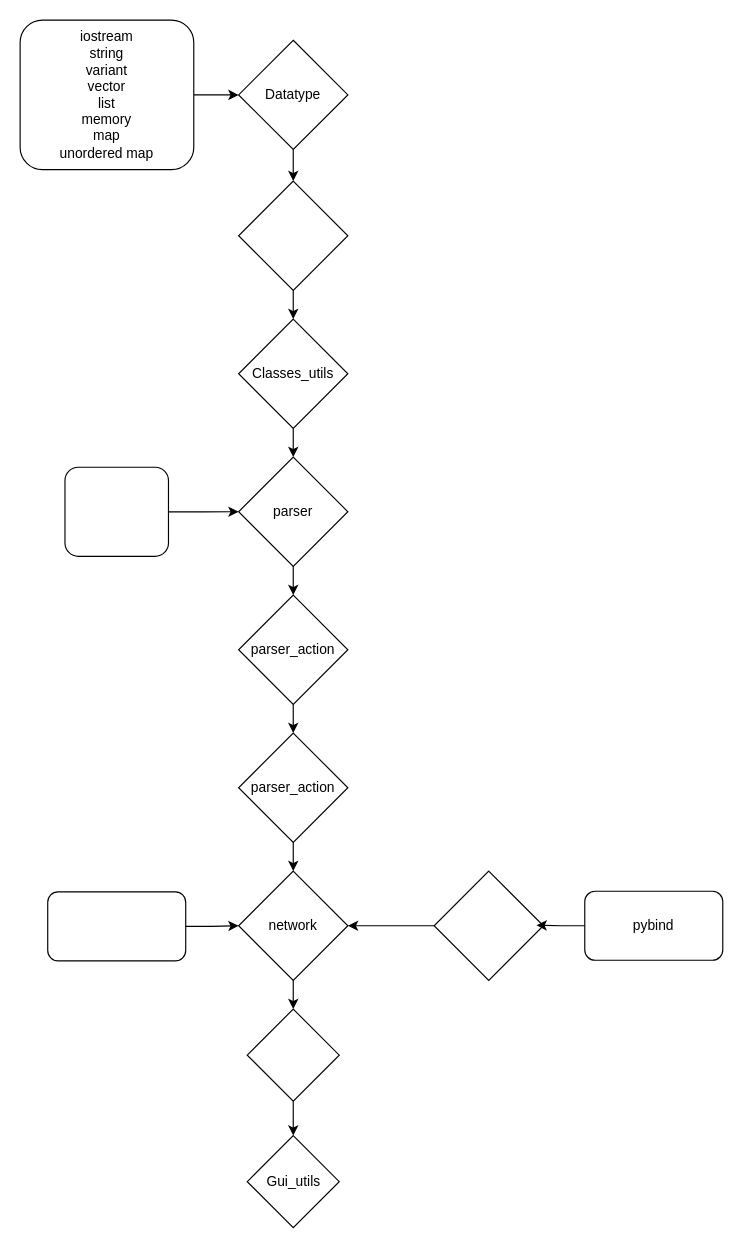
This 743x1248 diagram has some shape labels left out. Each missing label, with the box of its shape:
Classes: (237, 180, 348, 290)
GUI: (246, 1008, 339, 1101)
pylib: (433, 870, 543, 980)
snap7: (47, 891, 186, 961)
Tao/PEGTL: (64, 466, 168, 556)
